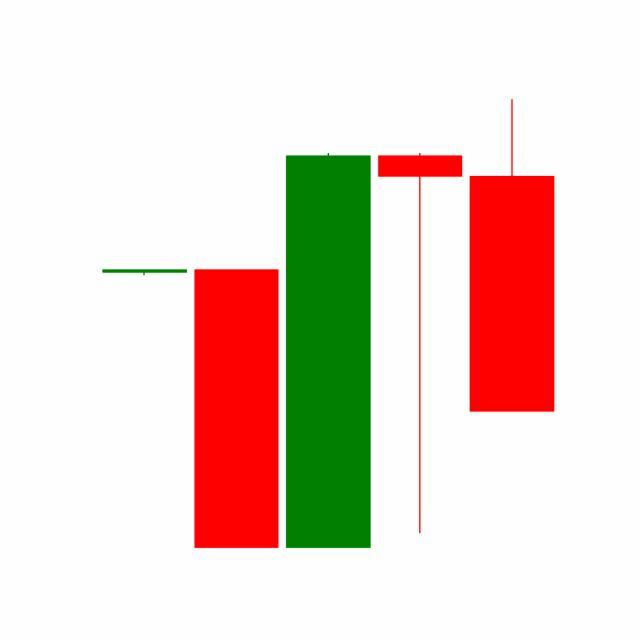Hanging Man: (374, 150, 468, 539)
